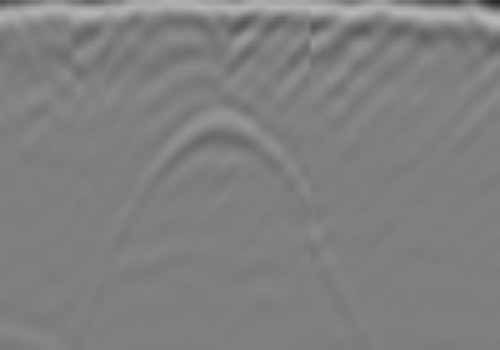hyperbola: (103, 106, 351, 302)
